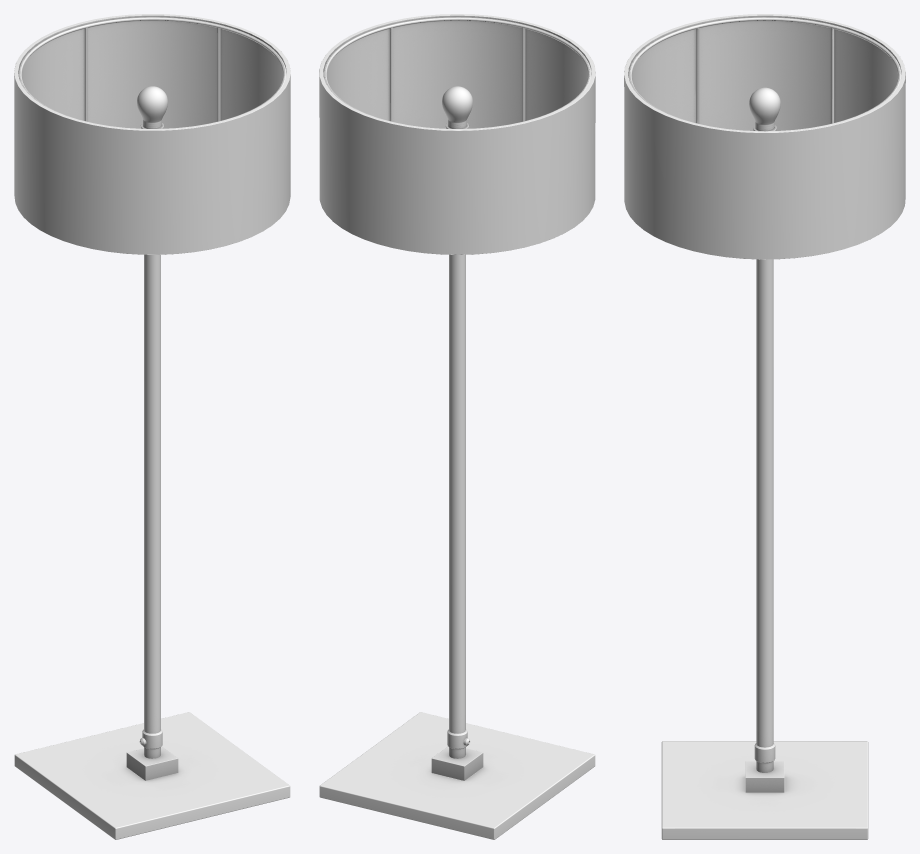
Rendered from lamp4.glb.
3 renders of one model, left to right at view 1: azimuth 30°, elevation 25°; view 2: azimuth 150°, elevation 25°; view 3: azimuth 270°, elevation 25°, orthographic.
Visible parts, largest first — view 1: node_id130; view 2: node_id130; view 3: node_id130.
Part boxes in pixels (left/top/right/bottom): node_id130: left=14, top=14, right=290, bottom=839; node_id130: left=319, top=14, right=595, bottom=839; node_id130: left=624, top=14, right=905, bottom=839.
Bounding box in the file's own units: 0.1807 × 0.512 × 0.1807.
Materials: 1 (1 with a texture image).
